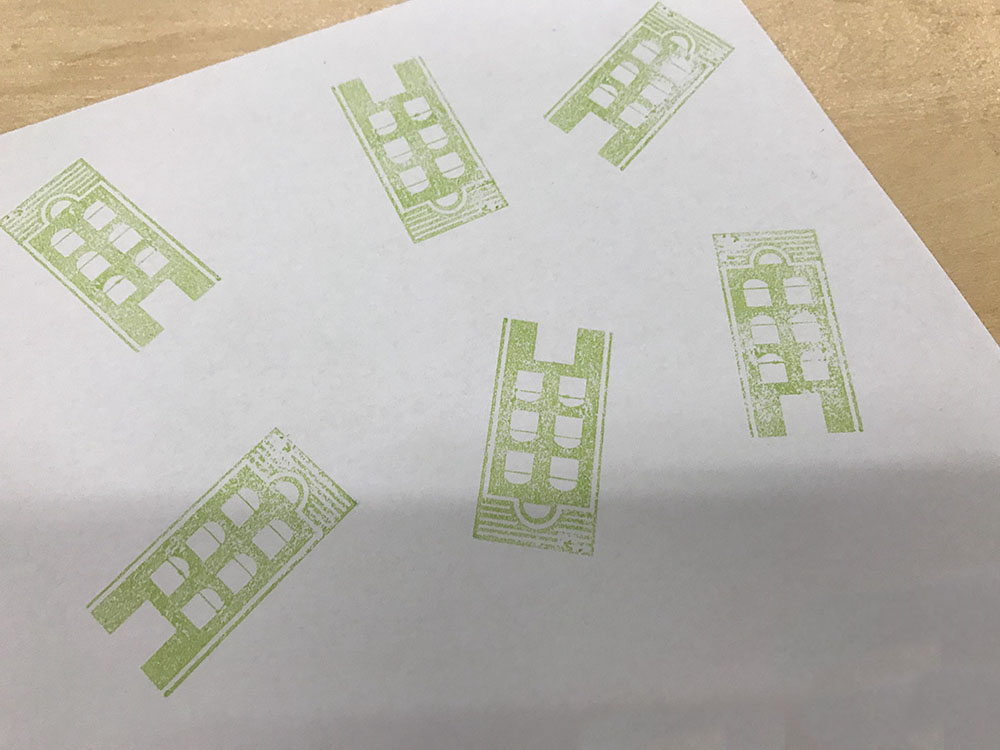build: (66, 406, 398, 725), (2, 122, 235, 373), (689, 218, 898, 455), (453, 299, 627, 575), (306, 39, 522, 252), (537, 1, 748, 191)
